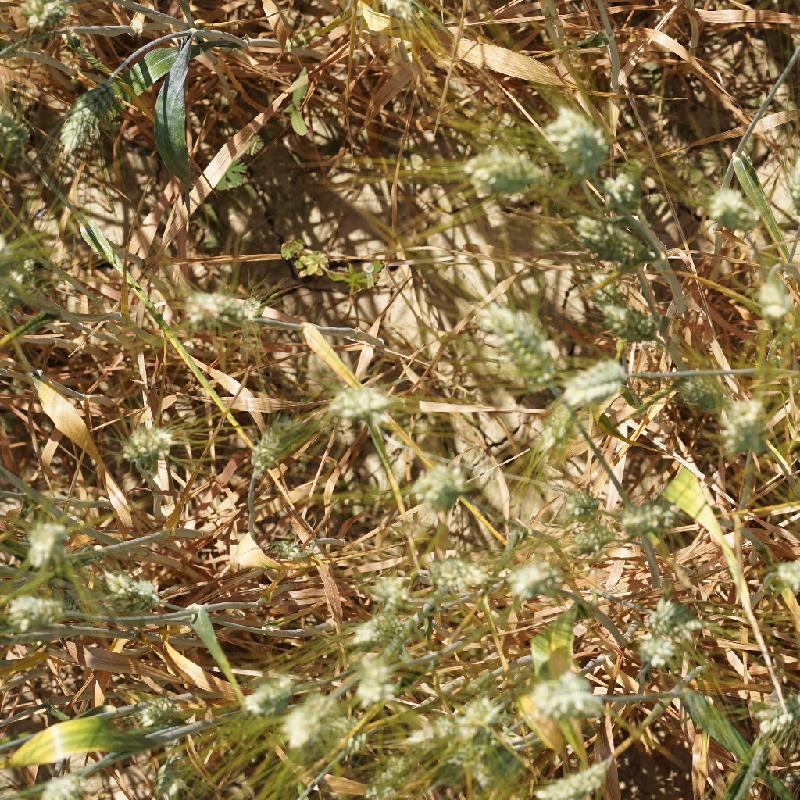spikelet: (54, 68, 131, 167), (480, 296, 557, 378), (228, 409, 312, 483), (567, 201, 663, 265), (536, 104, 610, 175), (556, 347, 632, 416), (712, 390, 778, 461), (402, 461, 483, 516), (579, 285, 657, 340), (170, 278, 240, 338), (527, 670, 609, 721), (1, 584, 71, 642), (691, 175, 762, 232), (529, 753, 614, 800), (492, 545, 563, 601), (96, 571, 167, 627), (414, 546, 492, 596), (320, 374, 396, 425), (116, 414, 179, 475), (664, 349, 727, 409), (741, 262, 800, 326), (239, 664, 306, 720), (639, 589, 707, 642), (470, 145, 539, 196), (531, 394, 582, 461), (572, 263, 633, 317), (459, 746, 520, 800), (350, 650, 406, 708), (744, 688, 800, 746), (275, 693, 335, 744), (613, 487, 674, 537), (439, 690, 507, 734), (16, 517, 73, 568), (592, 153, 650, 203), (626, 628, 696, 668), (346, 606, 408, 651), (128, 691, 185, 738), (258, 517, 314, 564), (367, 749, 417, 800), (150, 750, 200, 800), (349, 557, 403, 600), (14, 1, 84, 34), (552, 481, 604, 525), (397, 714, 461, 747), (32, 764, 86, 800), (1, 93, 32, 155), (230, 283, 264, 335), (41, 585, 90, 620), (565, 517, 610, 551)
weed: (268, 65, 335, 139), (324, 240, 391, 306), (215, 126, 267, 199), (276, 230, 333, 288)
